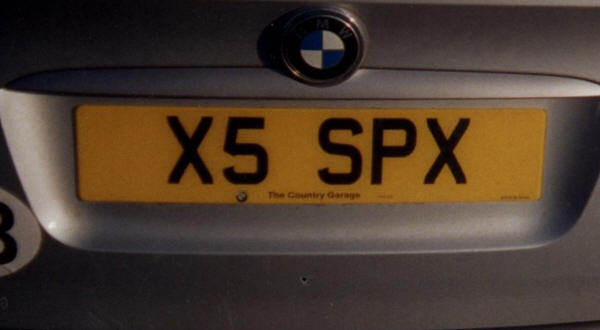license_plate: (73, 101, 548, 204)
